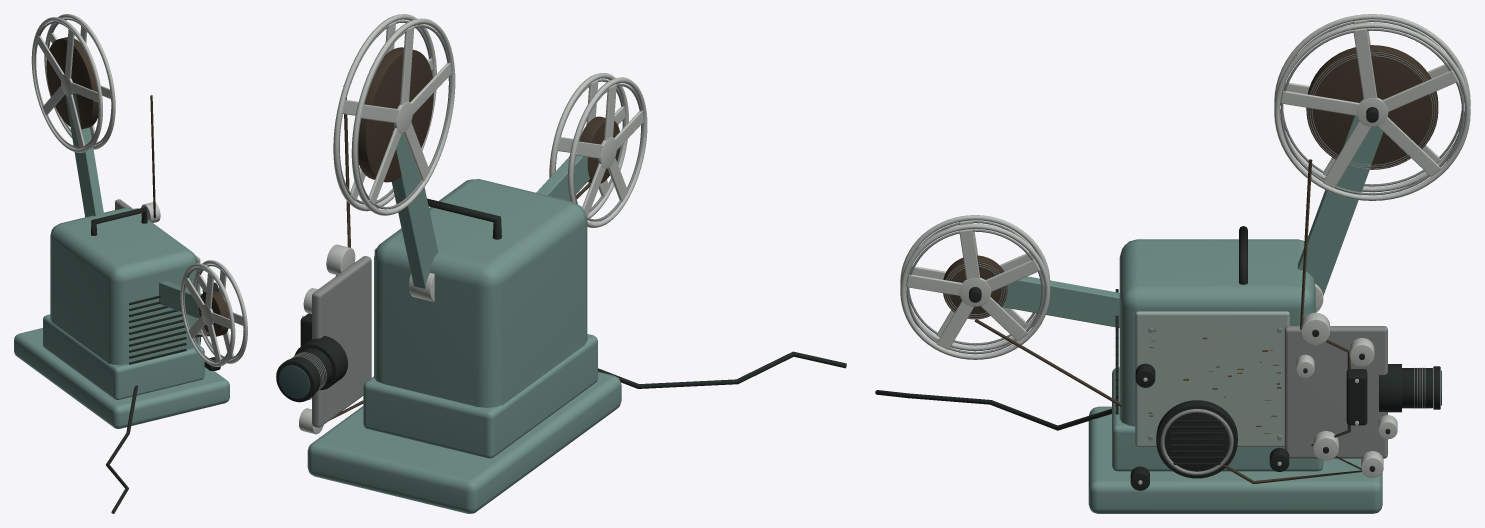
Rendered from projector_v07.glb.
3 renders of one model, left to right at view 1: azimuth 30°, elevation 25°; view 2: azimuth 150°, elevation 25°; view 3: azimuth 270°, elevation 25°, orthographic. The views are drawn at different scales.
Visible parts, largest first — view 1: ProjectorEnamel, ReelAlloy.002, ReelAlloy, Bakelite.001, FilmStock.002, MechanismSteel.002, MechanismSteel.001, FilmStock.001, FilmStock; view 2: ProjectorEnamel, ReelAlloy.002, MechanismSteel, ReelAlloy, FilmStock.002, Bakelite.001, ReelAlloy.001, MechanismSteel.002, MechanismSteel.001, FilmStock.001, CoatedLens, FilmStock; view 3: ProjectorEnamel, PaintEdge, Bakelite.001, ReelAlloy.002, MechanismSteel, ReelAlloy, FilmStock.002, MechanismSteel.002, ReelAlloy.001, MechanismSteel.001, FilmStock, FilmStock.001.
Boxes of the visible parts, <box> form: ProjectorEnamel: <box>14,92,229,428</box>; ReelAlloy.002: <box>31,14,115,152</box>; ReelAlloy: <box>180,260,247,366</box>; Bakelite.001: <box>91,207,220,513</box>; FilmStock.002: <box>46,37,98,129</box>; MechanismSteel.002: <box>34,18,111,148</box>; MechanismSteel.001: <box>183,264,243,362</box>; FilmStock.001: <box>198,290,229,336</box>; FilmStock: <box>150,95,209,337</box>; ProjectorEnamel: <box>307,131,621,513</box>; ReelAlloy.002: <box>333,14,455,215</box>; MechanismSteel: <box>291,256,371,427</box>; ReelAlloy: <box>549,73,647,227</box>; FilmStock.002: <box>358,47,433,182</box>; Bakelite.001: <box>276,198,846,402</box>; ReelAlloy.001: <box>299,244,434,434</box>; MechanismSteel.002: <box>339,20,451,209</box>; MechanismSteel.001: <box>555,79,643,221</box>; FilmStock.001: <box>579,116,620,183</box>; CoatedLens: <box>279,365,310,398</box>; FilmStock: <box>329,86,591,420</box>; ProjectorEnamel: <box>1002,115,1383,513</box>; PaintEdge: <box>1135,311,1289,447</box>; Bakelite.001: <box>875,226,1440,490</box>; ReelAlloy.002: <box>1274,14,1470,200</box>; MechanismSteel: <box>1148,326,1425,475</box>; ReelAlloy: <box>900,215,1050,359</box>; FilmStock.002: <box>1306,45,1438,169</box>; MechanismSteel.002: <box>1280,19,1464,195</box>; ReelAlloy.001: <box>1138,284,1397,484</box>; MechanismSteel.001: <box>906,220,1043,354</box>; FilmStock: <box>974,159,1361,484</box>; FilmStock.001: <box>943,255,1007,319</box>.
Size of the model in its own units: 0.6501 by 1.01 by 1.15.
